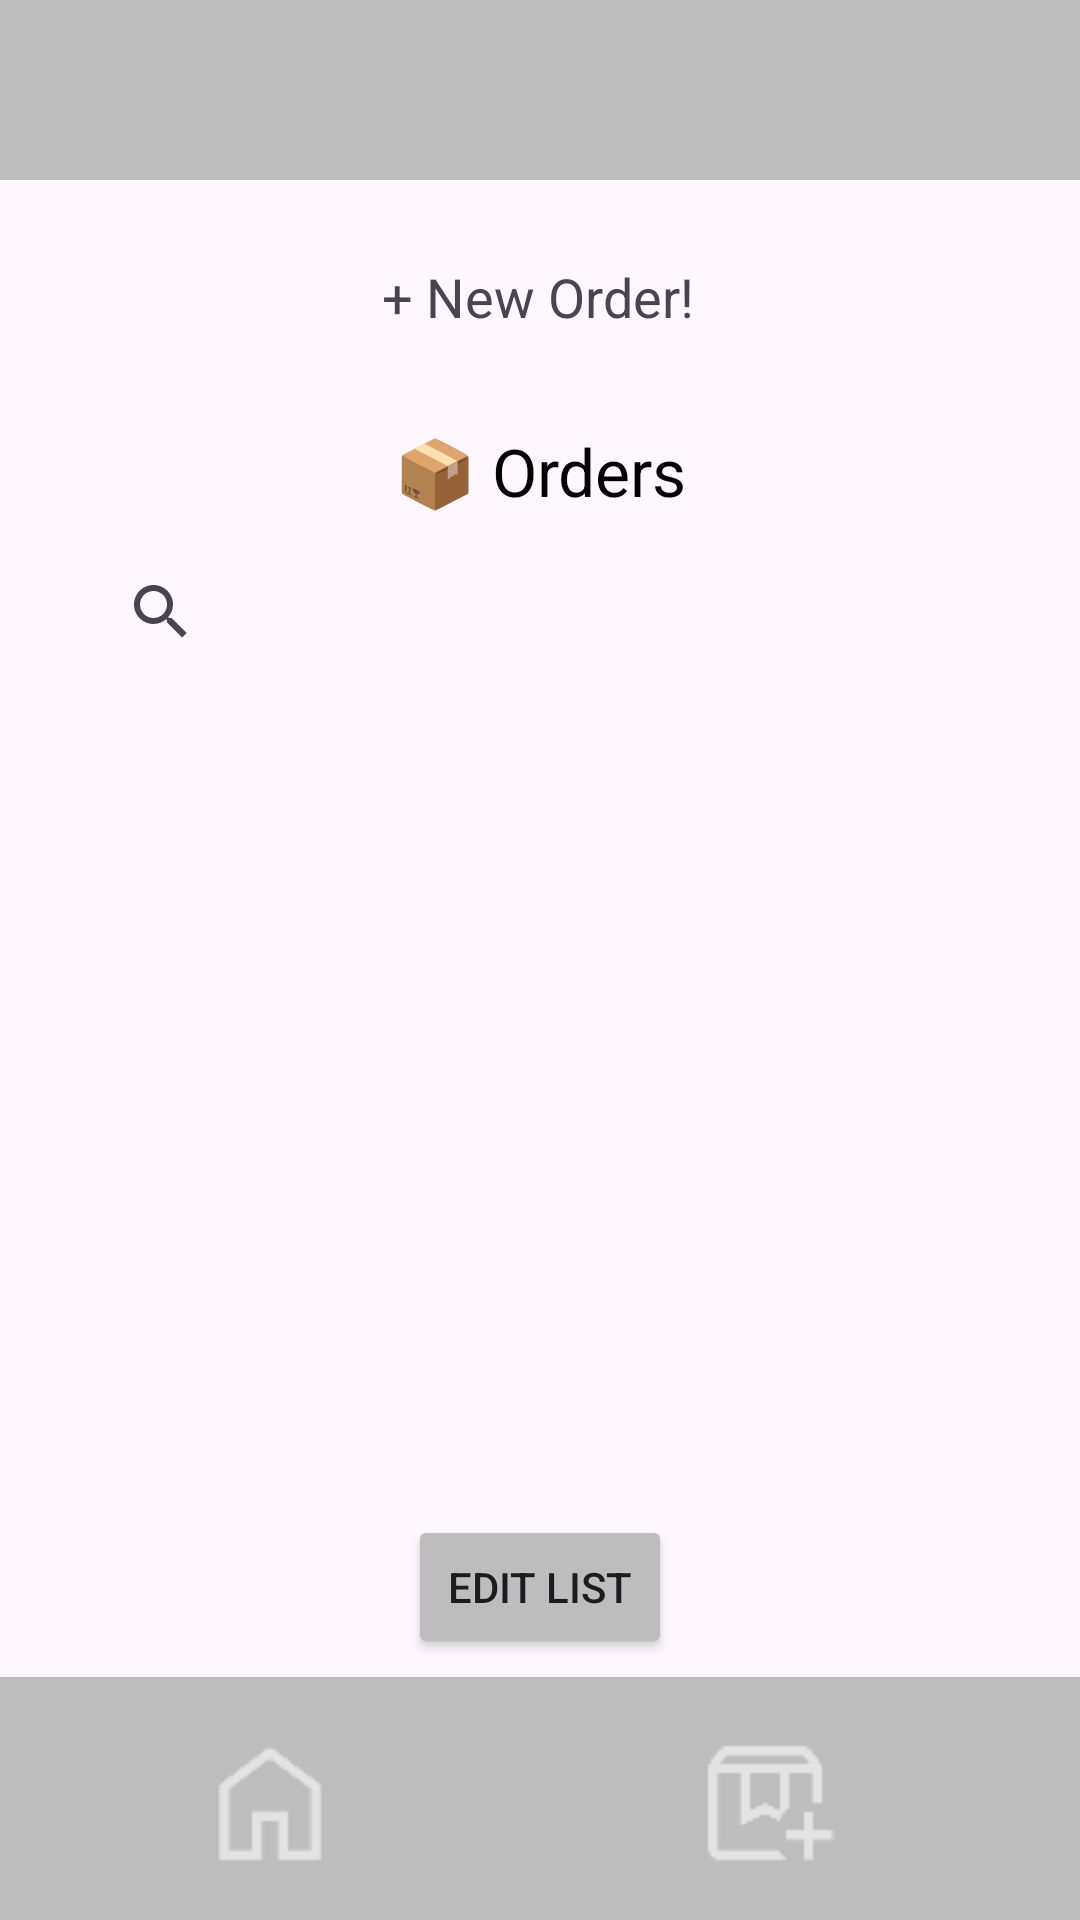

Point at icon controls on the screen. Image size 1080x1920, points as (x=x, y=y).
box add: (x=770, y=1803)
home: (x=270, y=1804)
